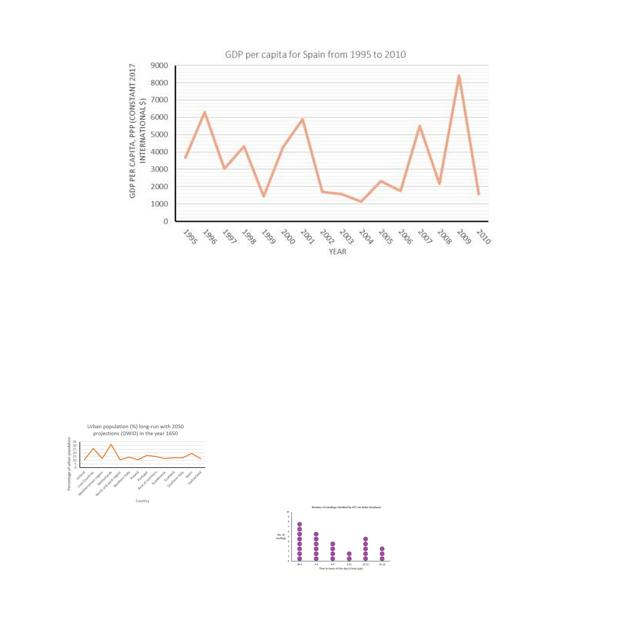Graph: (122, 43, 495, 259), (64, 422, 208, 505), (272, 503, 393, 573)
